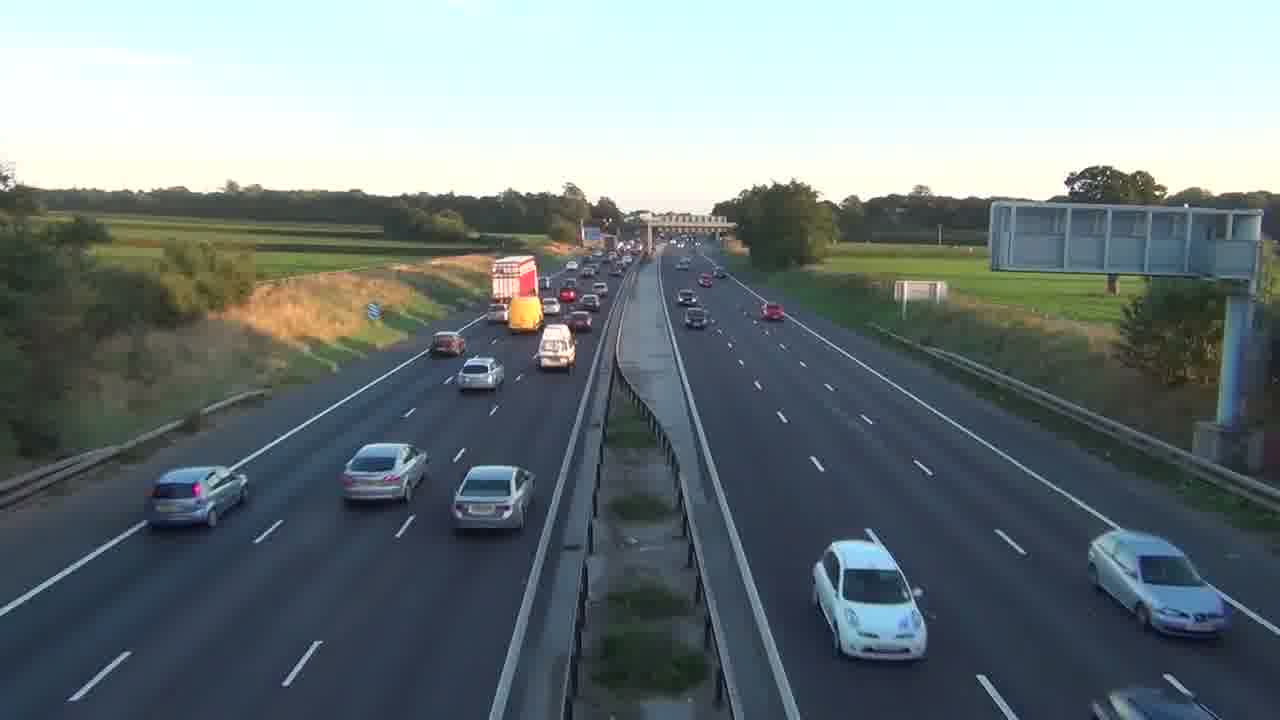car: (1087, 527, 1234, 640), (811, 529, 930, 662), (143, 464, 249, 530), (1089, 673, 1222, 719), (450, 464, 535, 533), (338, 441, 429, 503), (457, 355, 504, 392), (565, 310, 593, 332)
truck: (532, 322, 577, 372)
